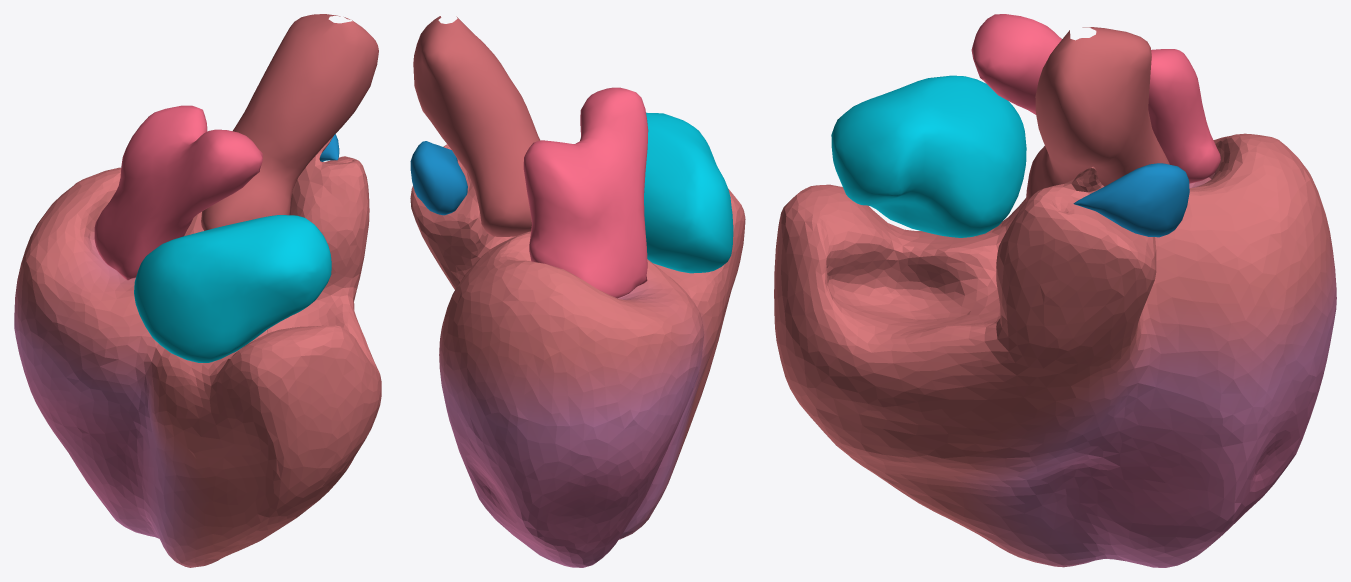
File: frame_2.glb
The picture shows the model from 3 angles, left to right: view 1: azimuth 30°, elevation 25°; view 2: azimuth 150°, elevation 25°; view 3: azimuth 270°, elevation 25°; orthographic projection. The views are drawn at different scales.
Parts seen in each view (by area): view 1: Renderer Node; view 2: Renderer Node; view 3: Renderer Node.
Boxes of the visible parts, box(x1,y1,x2,y2) form: Renderer Node: box(14, 14, 381, 567); Renderer Node: box(410, 16, 745, 567); Renderer Node: box(774, 14, 1336, 567).
Bounding box in the file's own units: 101 × 158 × 128.
